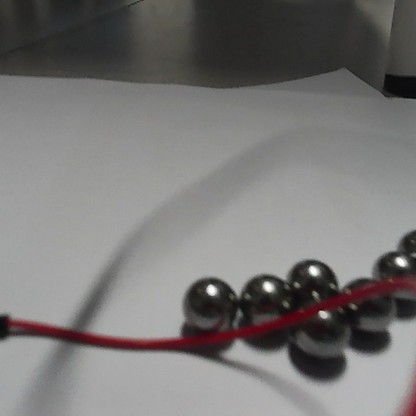ironball: (288, 289, 353, 355), (335, 276, 397, 335), (180, 273, 237, 336), (239, 269, 290, 327), (287, 258, 337, 305), (372, 251, 414, 305), (395, 228, 414, 263)
